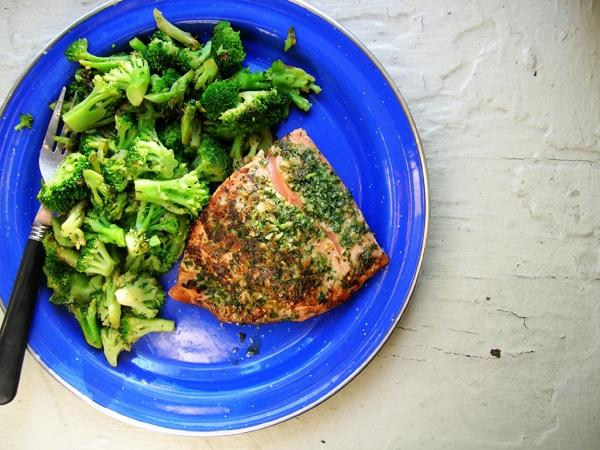broccoli: (116, 213, 192, 288), (134, 169, 213, 220), (61, 75, 126, 134), (37, 152, 94, 214), (218, 87, 290, 136), (122, 126, 178, 180), (125, 200, 178, 256), (103, 51, 150, 107), (272, 60, 322, 112), (64, 38, 131, 76), (114, 272, 166, 318), (153, 8, 205, 52), (210, 20, 246, 80), (64, 294, 102, 348), (90, 269, 122, 329), (191, 138, 234, 182), (198, 78, 241, 122), (59, 193, 92, 250), (120, 313, 174, 345), (82, 208, 126, 247), (75, 237, 117, 277), (52, 268, 96, 304), (83, 170, 116, 216), (100, 148, 130, 192), (100, 327, 132, 368), (157, 121, 185, 163), (176, 40, 212, 72), (149, 68, 191, 94), (230, 67, 273, 91), (191, 56, 219, 92), (115, 113, 139, 151), (104, 188, 129, 222), (142, 88, 186, 104), (68, 80, 94, 106), (55, 244, 81, 270), (230, 130, 247, 168), (189, 110, 204, 148), (144, 231, 172, 247), (80, 133, 100, 152), (96, 138, 110, 165), (49, 100, 72, 116), (14, 113, 33, 130), (285, 26, 296, 52), (125, 202, 138, 214)
